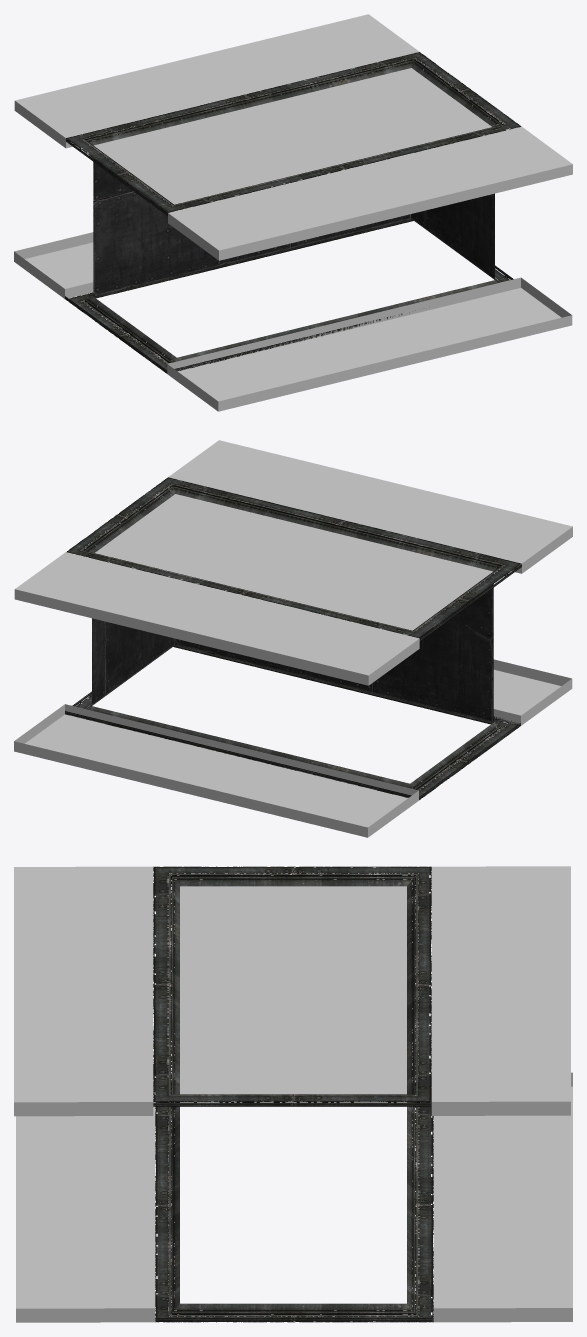
The model's file is tesla_modules1_floor_special.dae.
3 views of the same model, one above another, from view 1: azimuth 30°, elevation 25°; view 2: azimuth 150°, elevation 25°; view 3: azimuth 270°, elevation 25° (orthographic). The views are drawn at different scales.
Visible parts, largest first — view 1: polySurface10, polySurface8, polySurface9, polySurface5; view 2: polySurface10, polySurface8, polySurface9, polySurface5; view 3: polySurface10, polySurface8, polySurface9.
Boxes of the visible parts, box(x1,y1,x2,y2) form: polySurface10: box(14, 14, 572, 411); polySurface8: box(94, 68, 491, 210); polySurface9: box(65, 52, 521, 373); polySurface5: box(93, 148, 494, 296); polySurface10: box(14, 440, 572, 837); polySurface8: box(95, 494, 492, 634); polySurface9: box(65, 477, 521, 800); polySurface5: box(92, 574, 493, 722); polySurface10: box(14, 866, 572, 1322); polySurface8: box(180, 886, 406, 1106); polySurface9: box(153, 866, 433, 1322).
Bounding box in the file's own units: 4 × 1.75 × 4.02.
